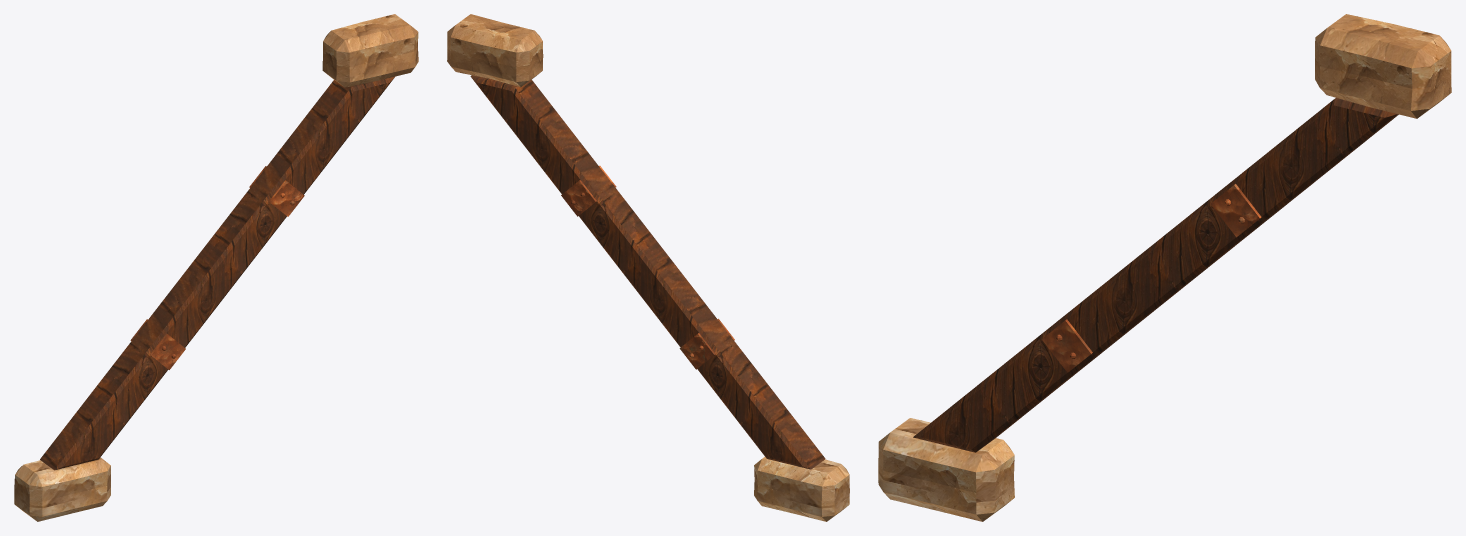
Rendered from brace__clay_brick.glb.
3 views of the same model, side by side, from view 1: azimuth 30°, elevation 25°; view 2: azimuth 150°, elevation 25°; view 3: azimuth 330°, elevation 25° (orthographic). The views are drawn at different scales.
Visible parts, largest first — view 1: model; view 2: model; view 3: model.
Part boxes in pixels (bbox=[...]): model: bbox=[14, 14, 418, 521]; model: bbox=[447, 14, 849, 521]; model: bbox=[878, 14, 1451, 521].
Bounding box in the file's own units: 1.98 × 1.98 × 0.225.
Materials: 4 (4 with a texture image).
